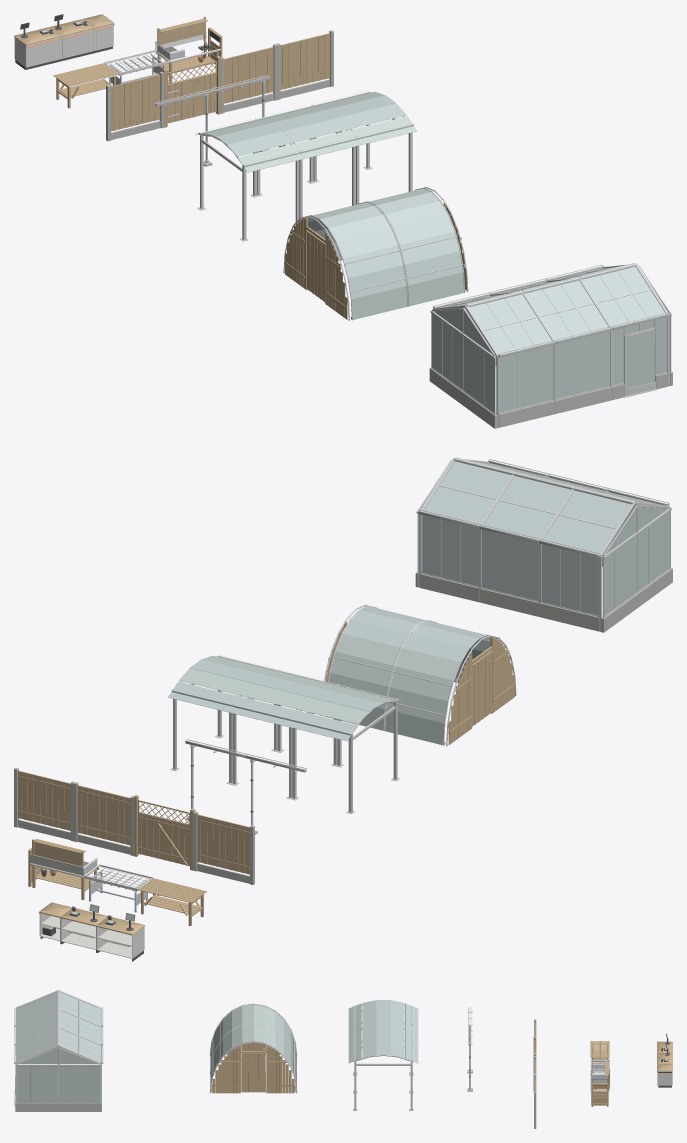
File: garden-centre-and-florist-connector-cases-45b785d3__17800.glb
The picture shows the model from 3 angles, top to bottom: view 1: azimuth 30°, elevation 25°; view 2: azimuth 150°, elevation 25°; view 3: azimuth 270°, elevation 25°; orthographic projection. The views are drawn at different scales.
Visible parts, largest first — view 1: 006-polytunnel-hoop-bay/1, 007-polytunnel-hoop-bay/1, 001-glasshouse-bay-module/2, 002-glasshouse-bay-module/2, 003-glasshouse-door-module/2, 000-glasshouse-gable-end/2, 009-canopy-walkway-module/1, 010-canopy-walkway-module/1, 011-canopy-walkway-module/1, 005-polytunnel-end-frame/1, 017-sales-area-fence-panel/1, 014-sales-area-fence-panel/1 (+24 smaller); view 2: 006-polytunnel-hoop-bay/1, 001-glasshouse-bay-module/2, 002-glasshouse-bay-module/2, 003-glasshouse-door-module/2, 007-polytunnel-hoop-bay/1, 000-glasshouse-gable-end/2, 009-canopy-walkway-module/1, 010-canopy-walkway-module/1, 011-canopy-walkway-module/1, 005-polytunnel-end-frame/1, 016-sales-area-fence-panel/1, 015-sales-area-fence-gate/sales-gate (+23 smaller); view 3: 004-glasshouse-gable-end/2, 008-polytunnel-end-frame/1, 006-polytunnel-hoop-bay/1, 007-polytunnel-hoop-bay/1, 001-glasshouse-bay-module/2, 002-glasshouse-bay-module/2, 003-glasshouse-door-module/2, 011-canopy-walkway-module/1, 010-canopy-walkway-module/1, 009-canopy-walkway-module/1, 008-polytunnel-end-frame/tunnel-door, 004-glasshouse-gable-end/0 (+10 smaller).
Part boxes in pixels (x1=…): 006-polytunnel-hoop-bay/1: x1=302, y1=202, x2=407, y2=319; 007-polytunnel-hoop-bay/1: x1=369, y1=188, x2=463, y2=305; 001-glasshouse-bay-module/2: x1=445, y1=294, x2=553, y2=412; 002-glasshouse-bay-module/2: x1=501, y1=280, x2=610, y2=398; 003-glasshouse-door-module/2: x1=558, y1=266, x2=666, y2=384; 000-glasshouse-gable-end/2: x1=432, y1=309, x2=494, y2=412; 009-canopy-walkway-module/1: x1=195, y1=119, x2=303, y2=172; 010-canopy-walkway-module/1: x1=258, y1=105, x2=360, y2=158; 011-canopy-walkway-module/1: x1=315, y1=92, x2=416, y2=144; 005-polytunnel-end-frame/1: x1=284, y1=217, x2=347, y2=319; 017-sales-area-fence-panel/1: x1=280, y1=33, x2=330, y2=89; 014-sales-area-fence-panel/1: x1=111, y1=74, x2=160, y2=131; 006-polytunnel-hoop-bay/1: x1=385, y1=621, x2=495, y2=745; 001-glasshouse-bay-module/2: x1=541, y1=490, x2=656, y2=615; 002-glasshouse-bay-module/2: x1=482, y1=476, x2=596, y2=600; 003-glasshouse-door-module/2: x1=422, y1=461, x2=537, y2=586; 007-polytunnel-hoop-bay/1: x1=326, y1=606, x2=425, y2=730; 000-glasshouse-gable-end/2: x1=604, y1=507, x2=670, y2=615; 009-canopy-walkway-module/1: x1=287, y1=685, x2=402, y2=741; 010-canopy-walkway-module/1: x1=228, y1=670, x2=336, y2=726; 011-canopy-walkway-module/1: x1=168, y1=655, x2=276, y2=711; 005-polytunnel-end-frame/1: x1=448, y1=636, x2=515, y2=744; 016-sales-area-fence-panel/1: x1=77, y1=785, x2=130, y2=845; 015-sales-area-fence-gate/sales-gate: x1=138, y1=800, x2=189, y2=866; 004-glasshouse-gable-end/2: x1=17, y1=1049, x2=100, y2=1102; 008-polytunnel-end-frame/1: x1=212, y1=1045, x2=294, y2=1093; 006-polytunnel-hoop-bay/1: x1=210, y1=1005, x2=296, y2=1069; 007-polytunnel-hoop-bay/1: x1=210, y1=1023, x2=296, y2=1087; 001-glasshouse-bay-module/2: x1=17, y1=992, x2=100, y2=1025; 002-glasshouse-bay-module/2: x1=17, y1=1010, x2=100, y2=1043; 003-glasshouse-door-module/2: x1=17, y1=1028, x2=100, y2=1061; 011-canopy-walkway-module/1: x1=348, y1=1036, x2=418, y2=1063; 010-canopy-walkway-module/1: x1=348, y1=1018, x2=418, y2=1044; 009-canopy-walkway-module/1: x1=348, y1=1000, x2=418, y2=1026; 008-polytunnel-end-frame/tunnel-door: x1=241, y1=1053, x2=265, y2=1092; 004-glasshouse-gable-end/0: x1=15, y1=1045, x2=101, y2=1102.
Size of the model in its own units: 8.15 by 3.36 by 30.43.
